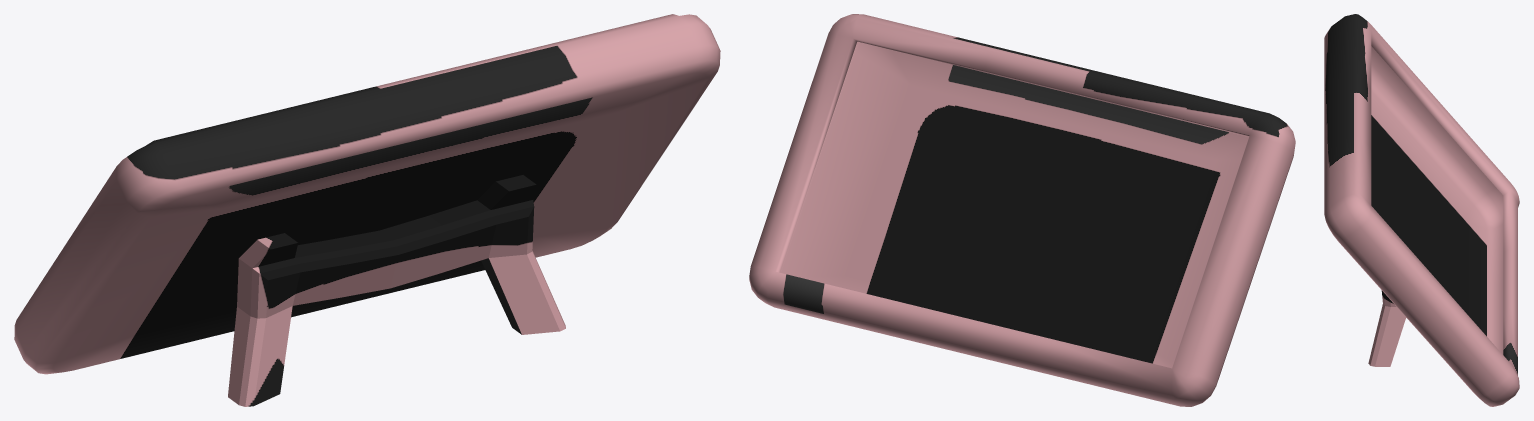
The model's file is Tablet_2.fbx.
The picture shows the model from 3 angles, left to right: view 1: azimuth 30°, elevation 25°; view 2: azimuth 150°, elevation 25°; view 3: azimuth 270°, elevation 25°; orthographic projection. The views are drawn at different scales.
Parts seen in each view (by area): view 1: Tablet; view 2: Tablet; view 3: Tablet.
Part boxes in pixels (box(x1,y1,x2,y2)): Tablet: box(14, 14, 720, 406); Tablet: box(749, 14, 1295, 406); Tablet: box(1324, 14, 1519, 406).
Bounding box in the file's own units: 1.99 × 0.8184 × 0.9749.
